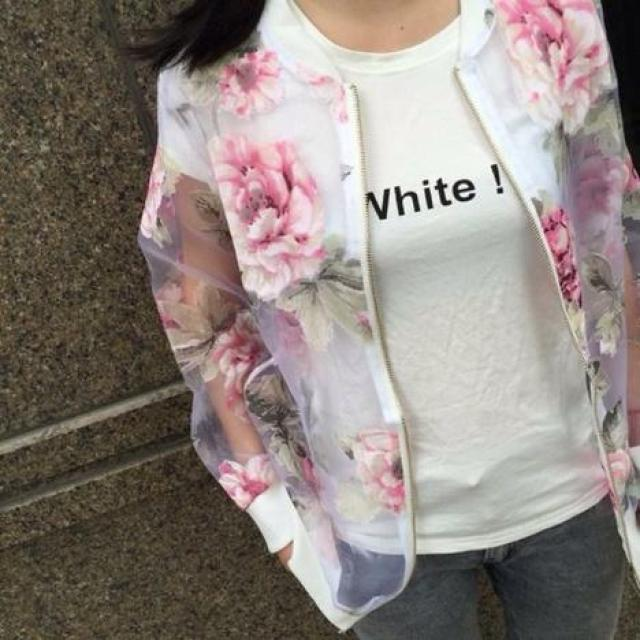long-sleeve-top: (153, 3, 639, 562)
